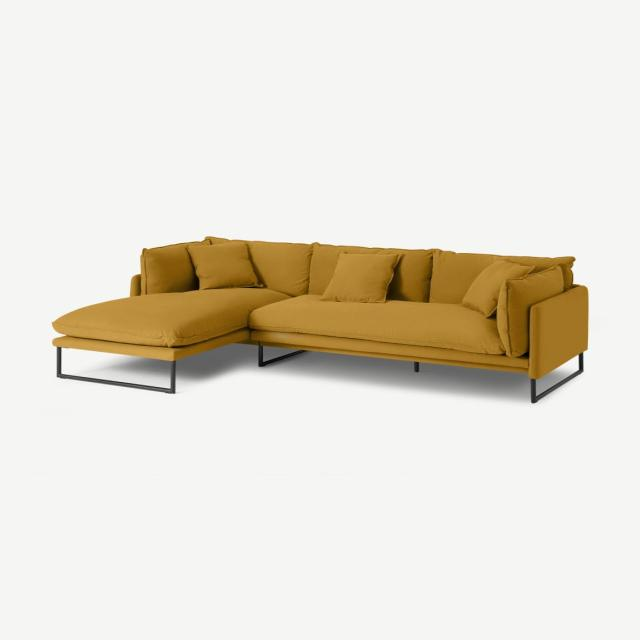Soffa: (34, 226, 590, 412)
